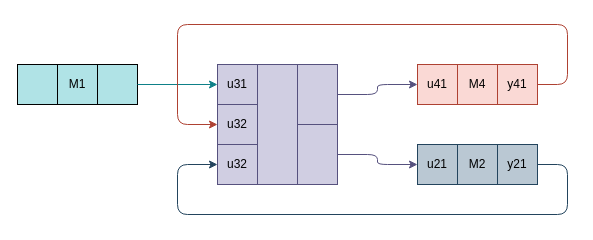
Image size: 593x240. Some labels were removed from this diagram. The shapes that lost their labels are listed below. From the top down, each one's box as (x1, y1, x2, y2) in pixels, then its label:
(96, 64, 138, 104): y11
(296, 64, 338, 124): y31
(256, 64, 298, 184): M3
(296, 124, 338, 184): y32
